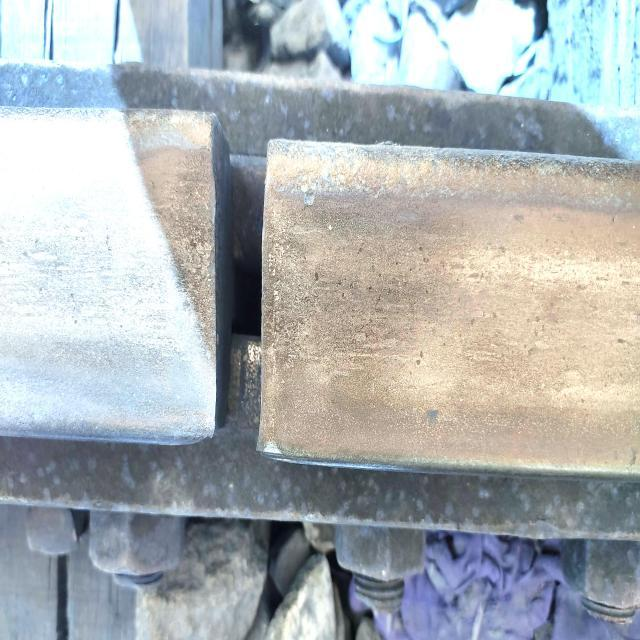railway_join_bar_defects_low: (174, 66, 294, 500)
